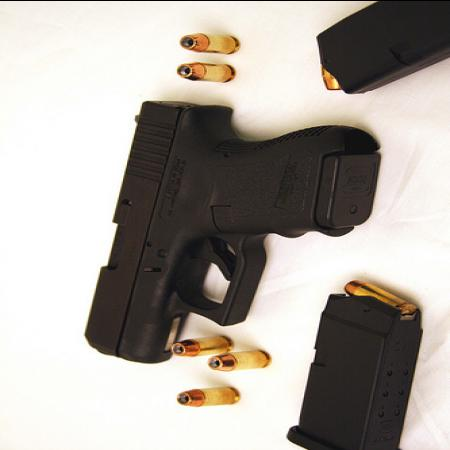Pistol: (75, 97, 382, 356)
